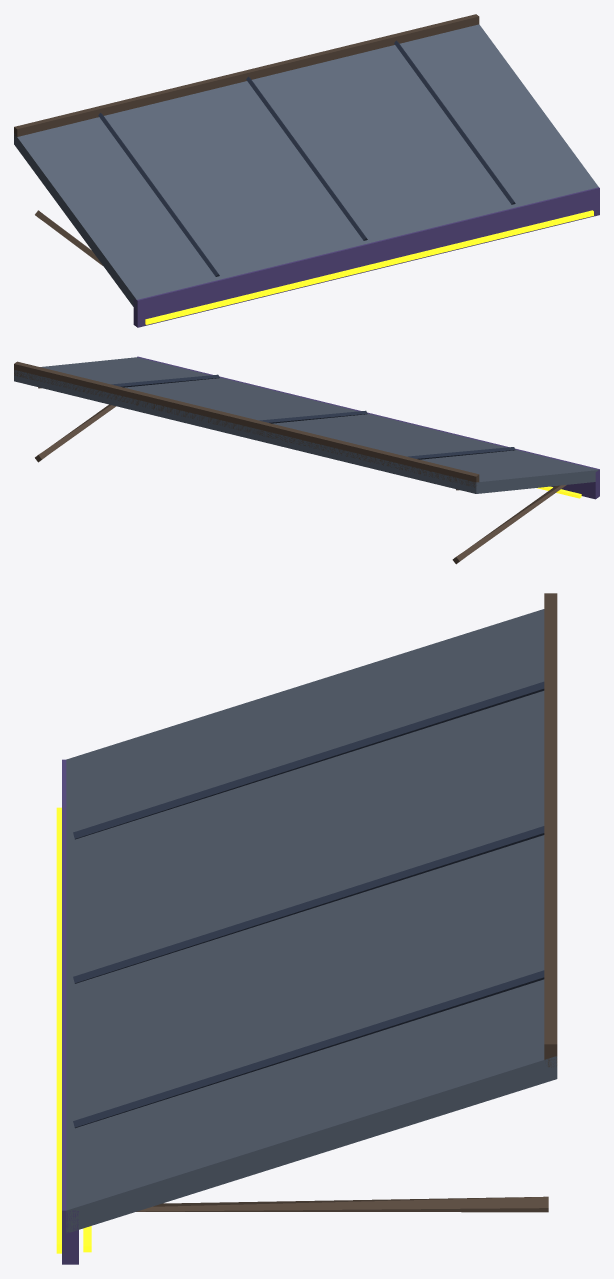
File: city_awning.glb
The picture shows the model from 3 angles, top to bottom: view 1: azimuth 30°, elevation 25°; view 2: azimuth 150°, elevation 25°; view 3: azimuth 270°, elevation 25°; orthographic projection. The views are drawn at different scales.
Visible parts, largest first — view 1: canopy, valance, wall_flashing, led_strip, roof_seam.001, roof_seam.002, roof_seam, brace; view 2: canopy, wall_flashing, valance, brace, brace.001, roof_seam, roof_seam.001, roof_seam.002; view 3: canopy, wall_flashing, brace.001, roof_seam.001, roof_seam.002, roof_seam, valance, led_strip.
Part boxes in pixels (x1,y1,x2,y2): canopy: [14, 24, 598, 309]; valance: [133, 187, 599, 327]; wall_flashing: [14, 14, 479, 139]; led_strip: [145, 210, 593, 324]; roof_seam.001: [246, 76, 367, 240]; roof_seam.002: [394, 40, 515, 204]; roof_seam: [98, 113, 219, 276]; brace: [35, 210, 102, 265]; canopy: [14, 357, 598, 493]; wall_flashing: [14, 361, 479, 487]; valance: [137, 356, 599, 499]; brace: [452, 485, 566, 564]; brace.001: [35, 387, 115, 462]; roof_seam: [408, 447, 515, 459]; roof_seam.001: [259, 410, 367, 423]; roof_seam.002: [111, 374, 219, 387]; canopy: [66, 609, 557, 1233]; wall_flashing: [544, 593, 557, 1067]; brace.001: [136, 1196, 548, 1212]; roof_seam.001: [73, 826, 544, 983]; roof_seam.002: [73, 970, 544, 1128]; roof_seam: [73, 681, 544, 839]; valance: [62, 759, 78, 1264]; led_strip: [56, 807, 91, 1253].
Size of the model in its own units: 2.5 by 0.57 by 1.17.
